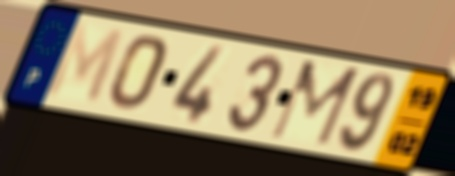0: (105, 33, 171, 114)
3: (224, 52, 285, 136)
4: (167, 42, 230, 128)
9: (335, 70, 400, 155)
M: (265, 57, 364, 149), (41, 20, 128, 109)
